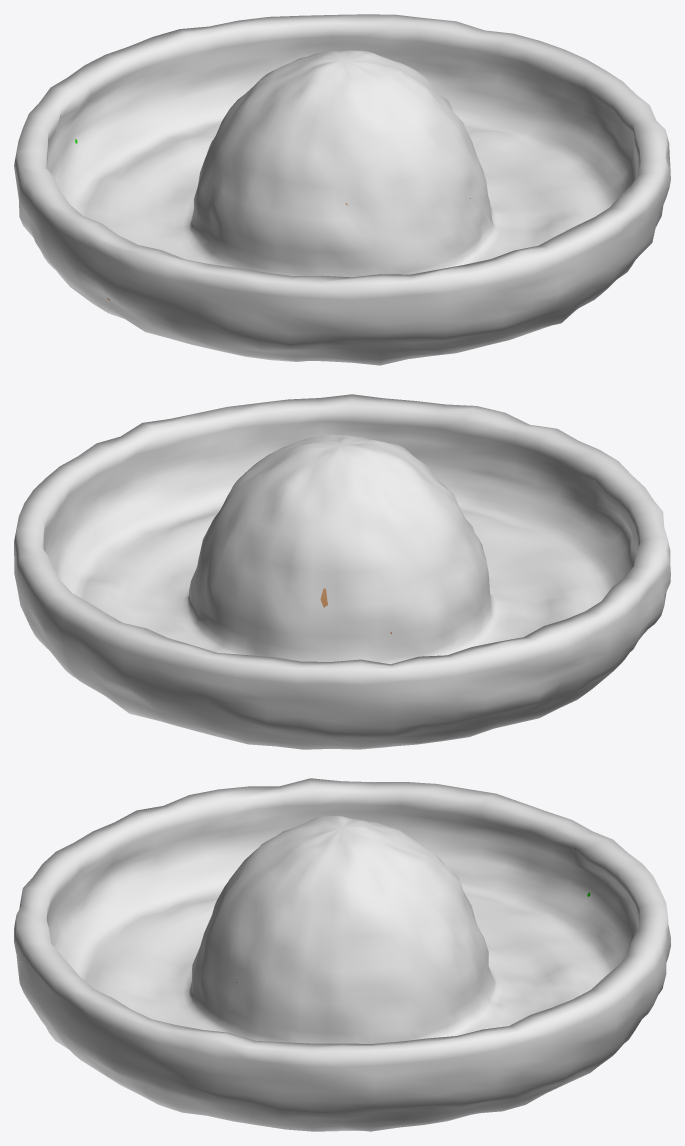
Rendered from Sombrero.fbx.
3 views of the same model, one above another, from view 1: azimuth 30°, elevation 25°; view 2: azimuth 150°, elevation 25°; view 3: azimuth 270°, elevation 25° (orthographic).
Visible parts, largest first — view 1: Sil sombrero; view 2: Sil sombrero; view 3: Sil sombrero.
Part boxes in pixels (x1,y1,x2,y2): Sil sombrero: [14, 14, 670, 365]; Sil sombrero: [14, 394, 670, 749]; Sil sombrero: [14, 778, 670, 1131].
Size of the model in its own units: 452 by 150 by 452.
